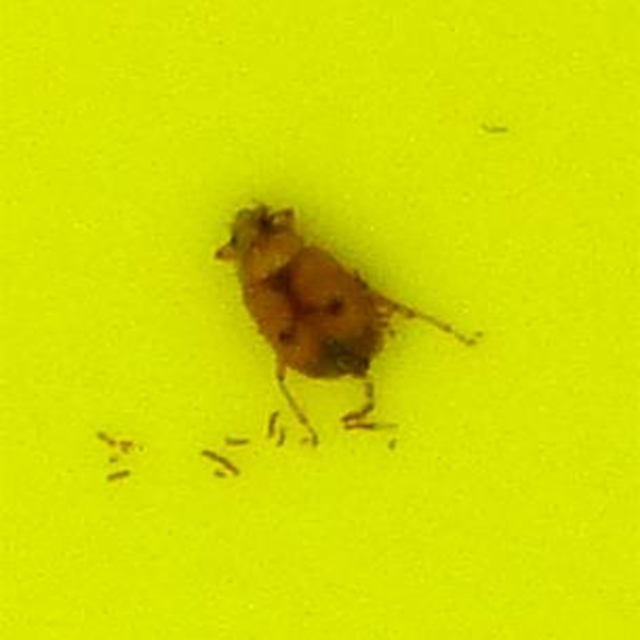Coleoptera: (211, 197, 429, 443)
